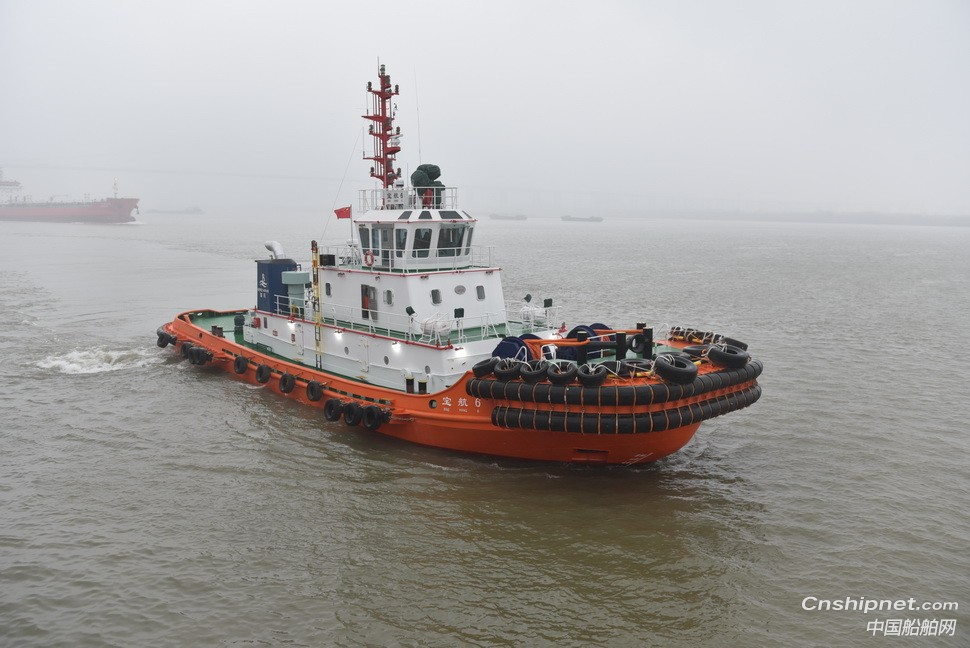otherboat: (145, 75, 777, 480)
